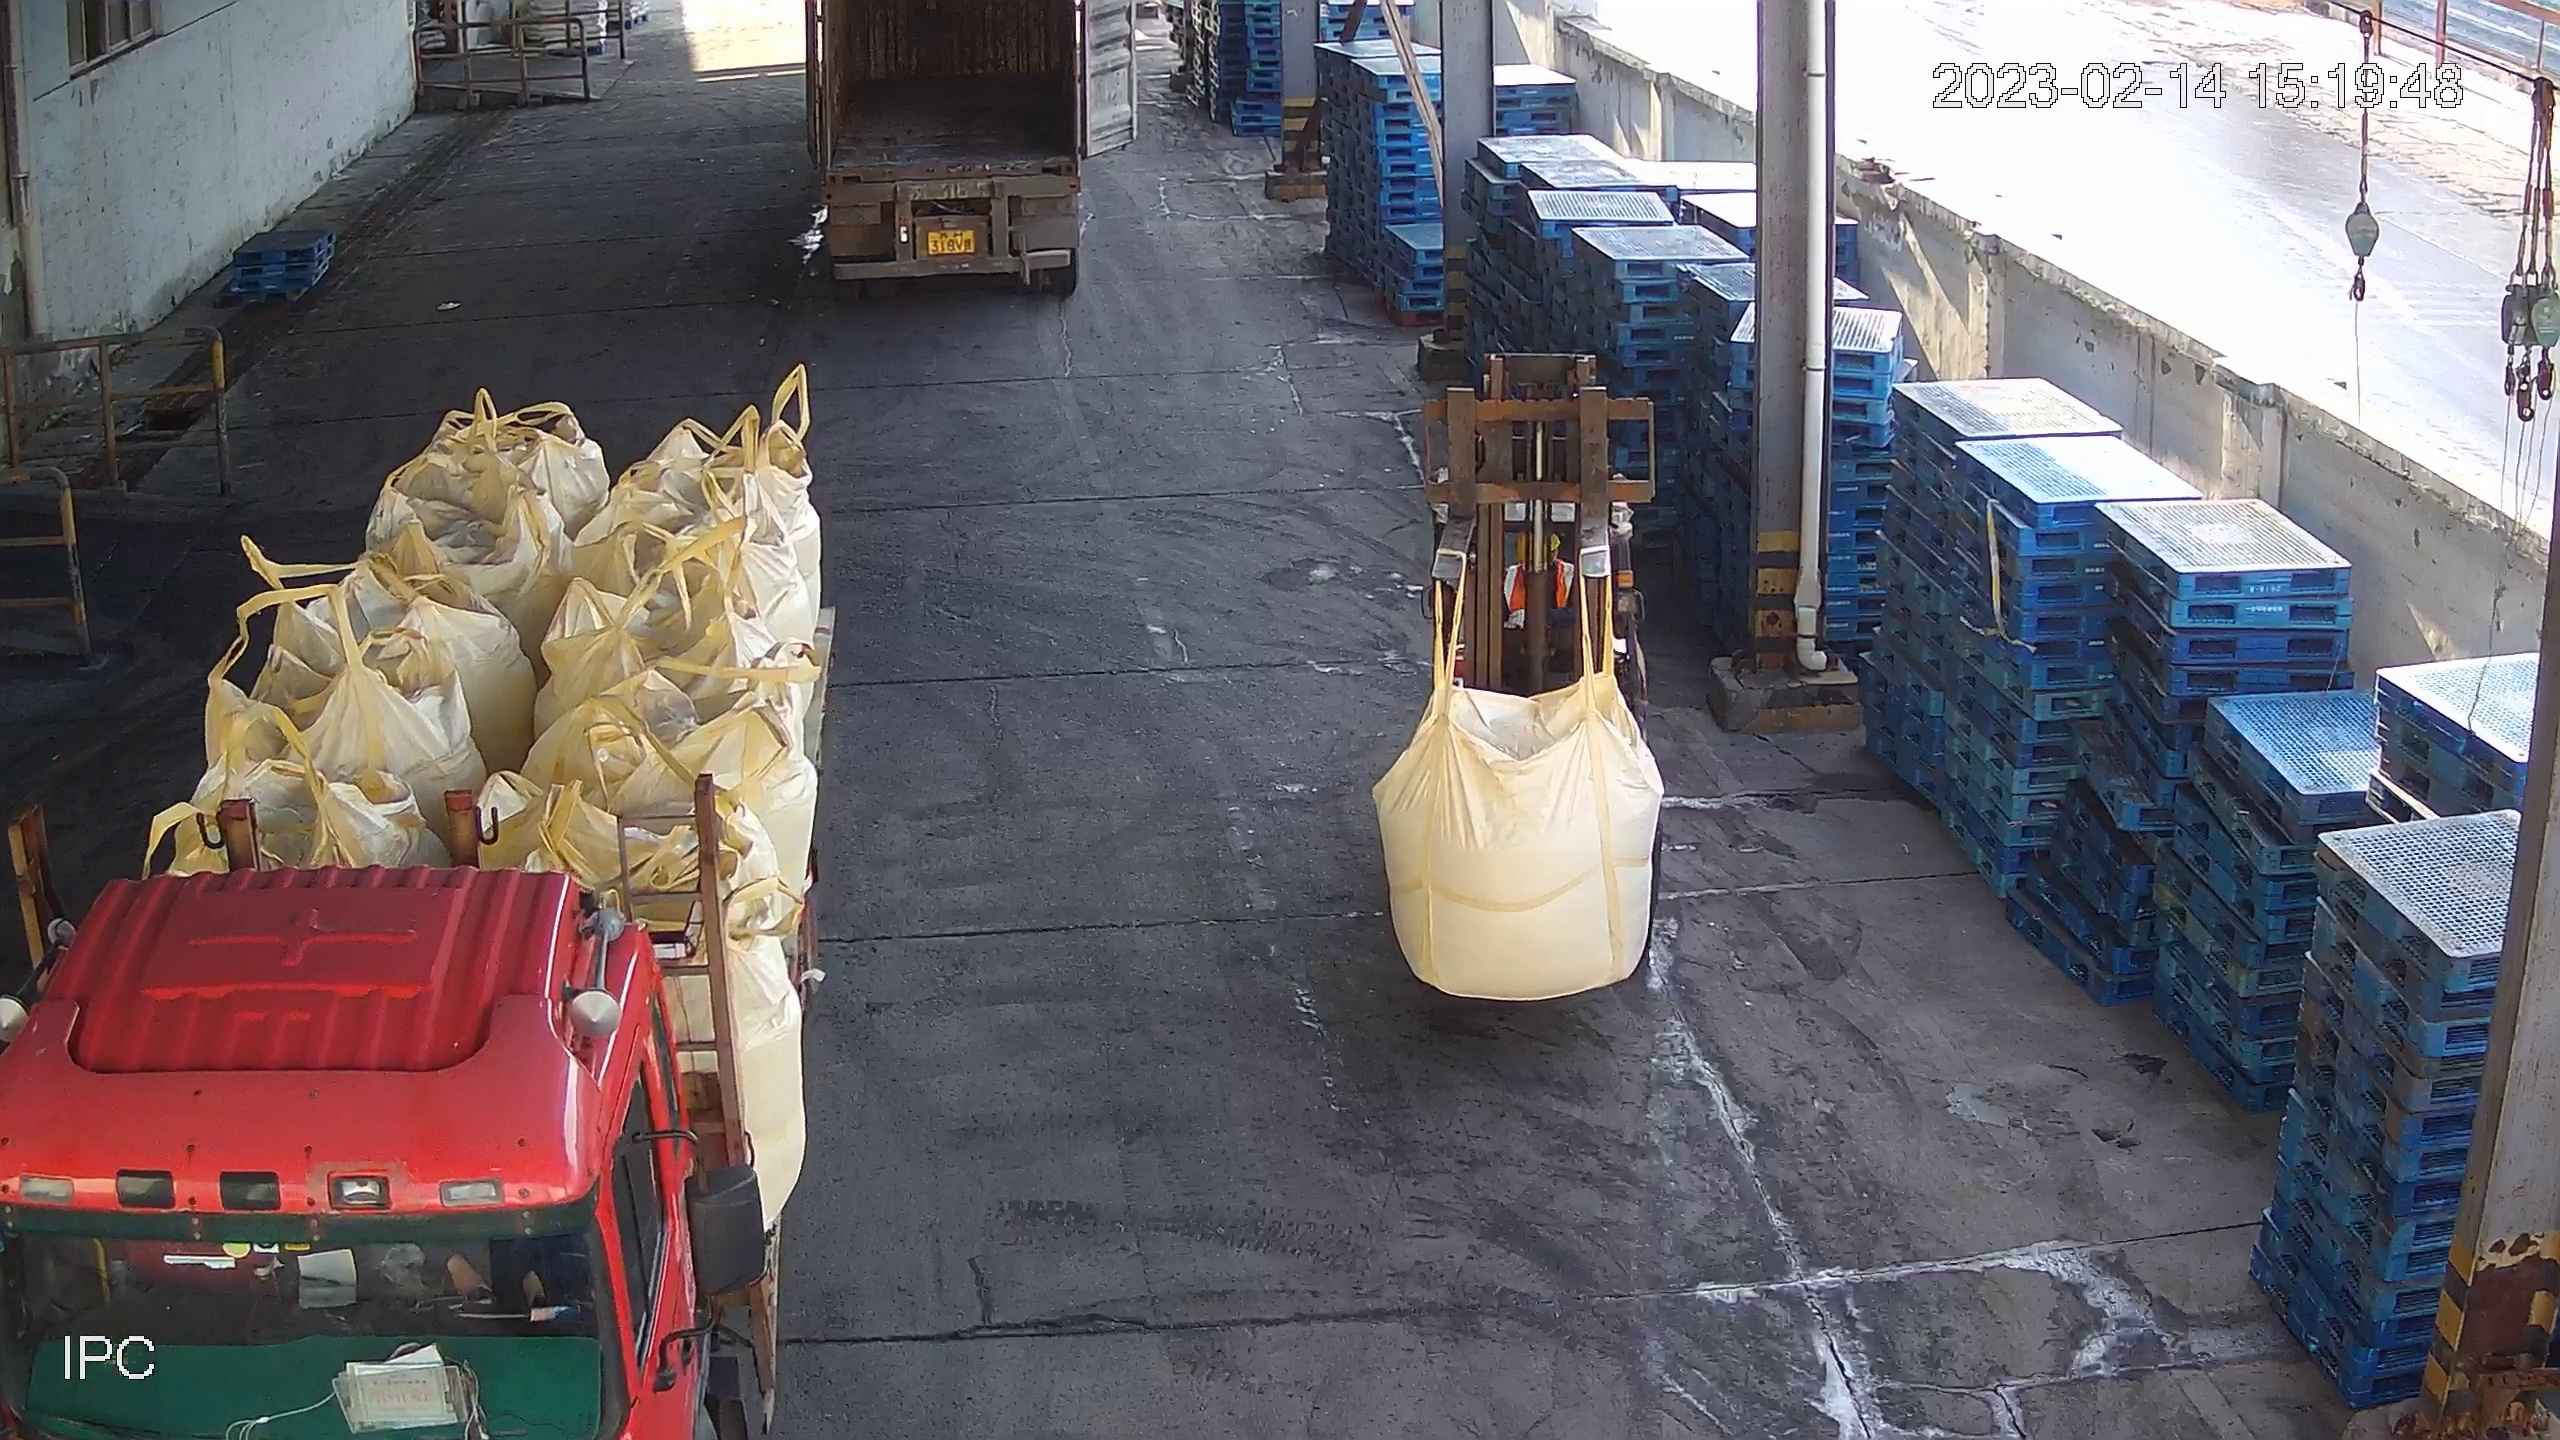truck: (7, 376, 872, 1440), (796, 2, 1115, 315)
